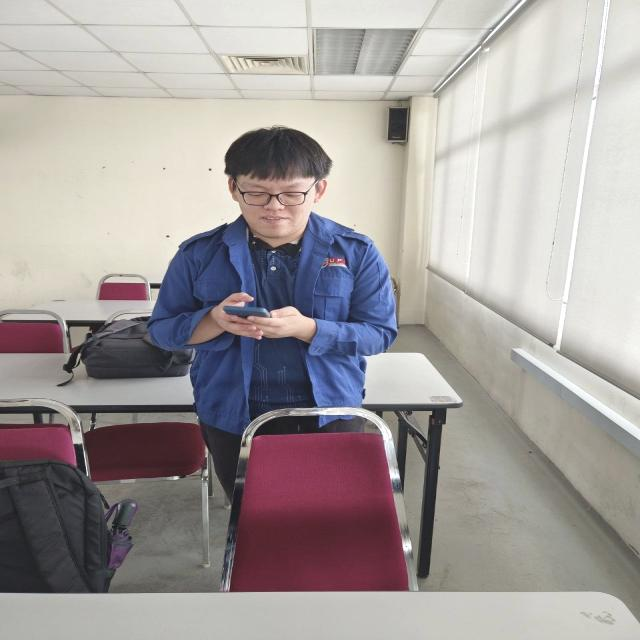person_with_labcoat: (151, 126, 397, 499)
